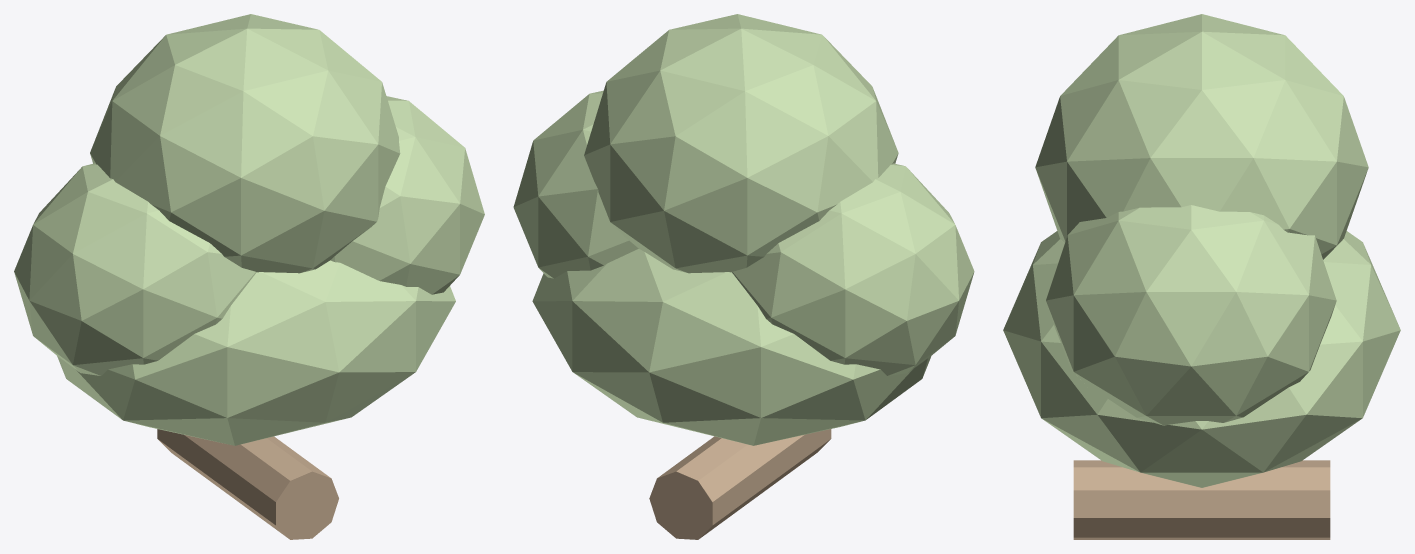
File: tree-b.glb
The picture shows the model from 3 angles, left to right: view 1: azimuth 30°, elevation 25°; view 2: azimuth 150°, elevation 25°; view 3: azimuth 270°, elevation 25°; orthographic projection. The views are drawn at different scales.
Visible parts, largest first — view 1: world; view 2: world; view 3: world.
Part boxes in pixels (bbox=[...]): world: bbox=[14, 14, 484, 539]; world: bbox=[513, 14, 974, 539]; world: bbox=[1003, 14, 1400, 539].
Size of the model in its own units: 2.53 by 2.61 by 1.86.
